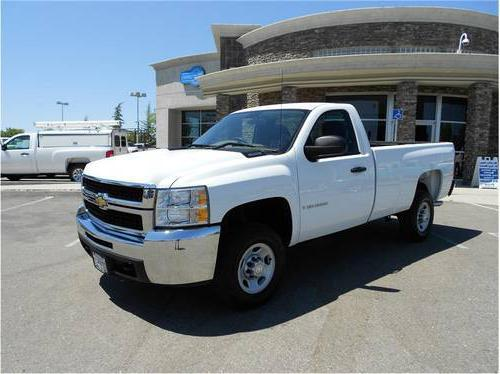Car: (66, 95, 464, 322)
